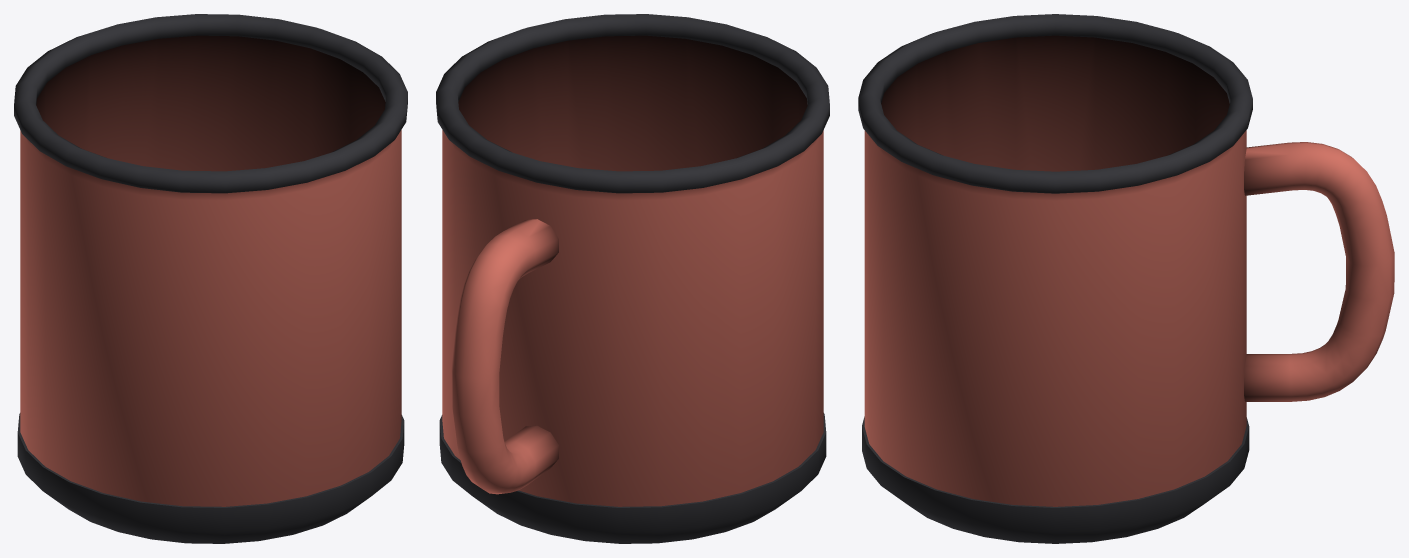
File: nd_mug.glb
3 views of the same model, side by side, from view 1: azimuth 30°, elevation 25°; view 2: azimuth 150°, elevation 25°; view 3: azimuth 270°, elevation 25° (orthographic).
Parts seen in each view (by area): view 1: PART; view 2: PART; view 3: PART.
Boxes of the visible parts, x1=… form: PART: x1=14, y1=14, x2=407, y2=543; PART: x1=436, y1=14, x2=829, y2=543; PART: x1=858, y1=14, x2=1394, y2=543.
Bounding box in the file's own units: 0.0888 × 0.0948 × 0.1208.
